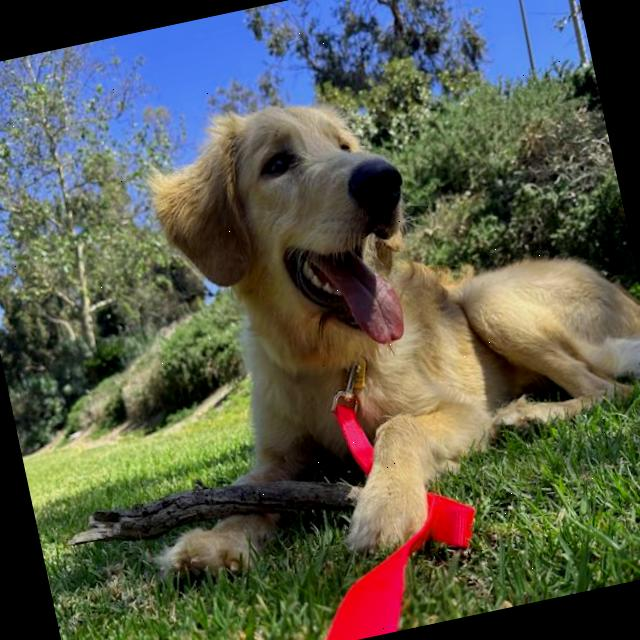golden_retriever_dog: (128, 63, 458, 414)
